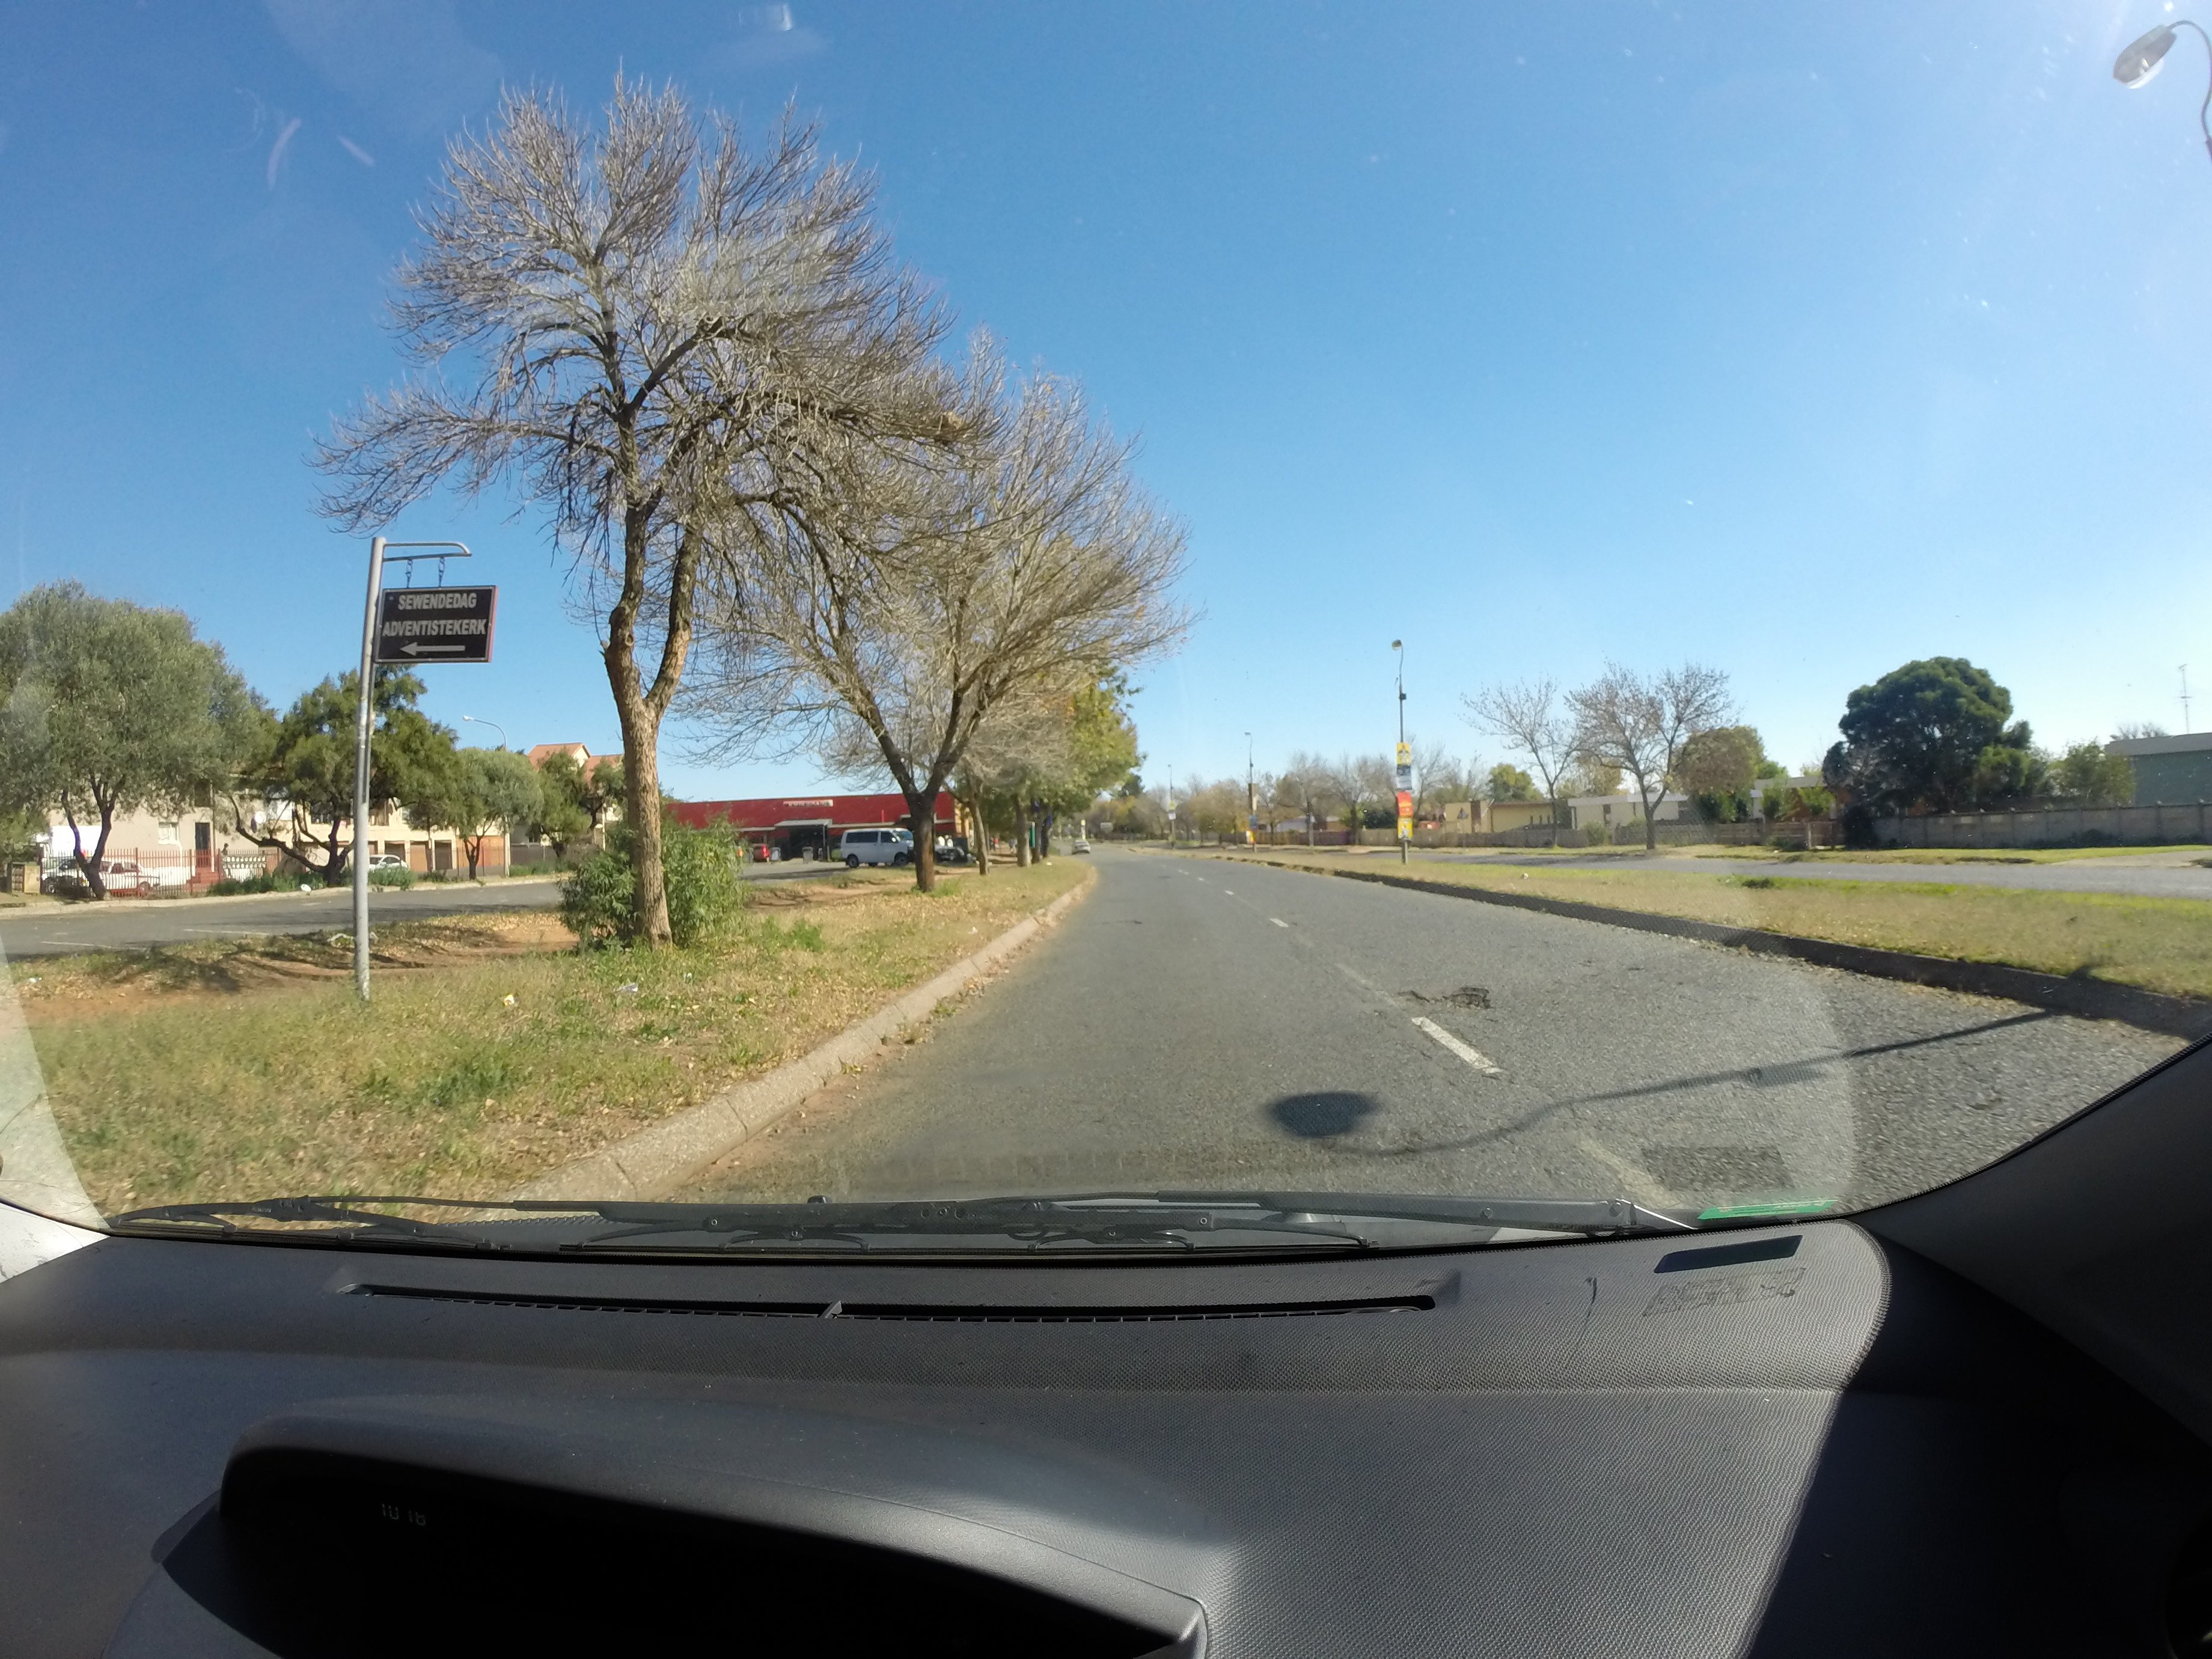pothole: (1359, 951, 1533, 1044)
